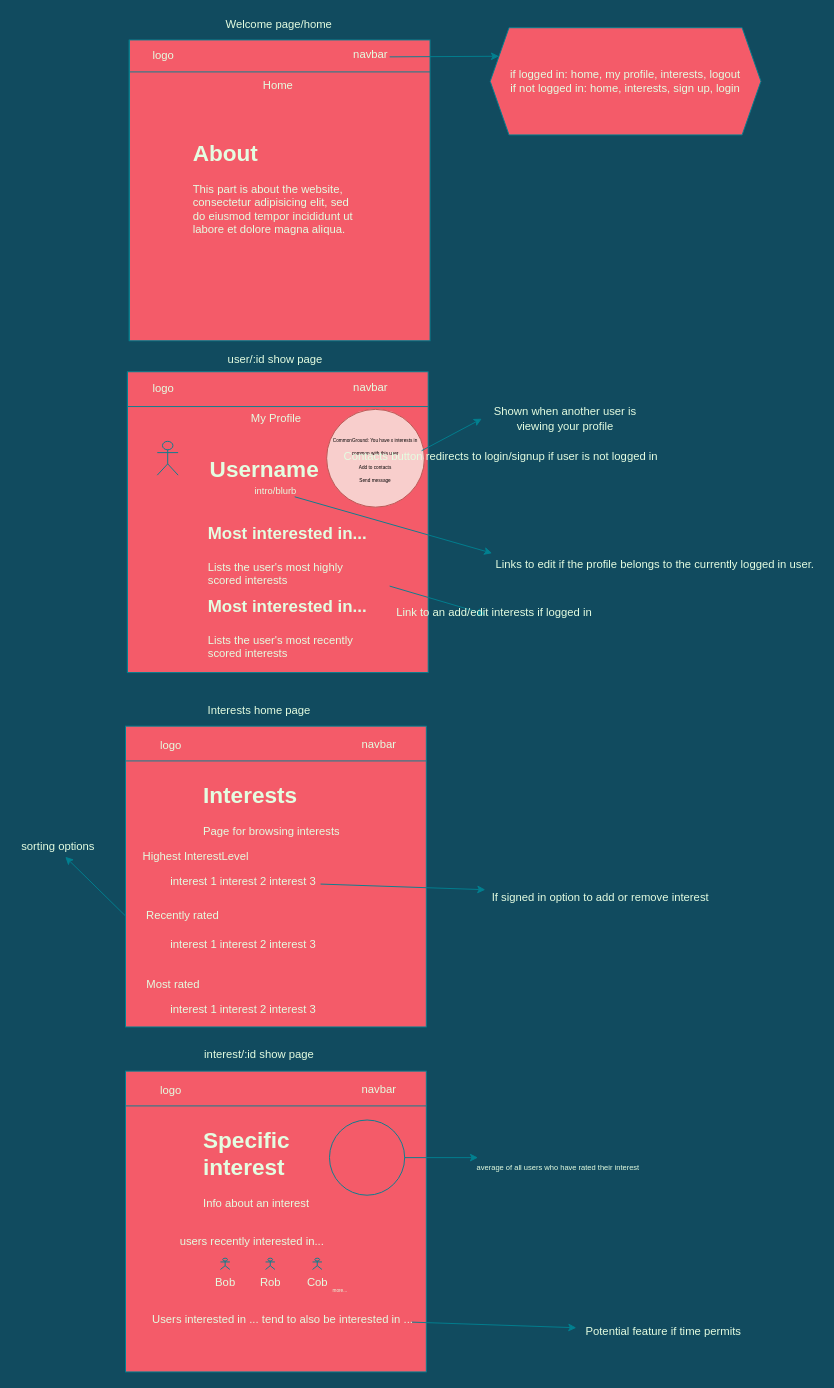
This 834x1388 diagram has some shape labels left out. The box of each missing label's shape, as (x1, y1, x2, y2) in pixels:
InterestLevel: (329, 1119, 405, 1195)
Profile Image: (156, 440, 178, 475)
